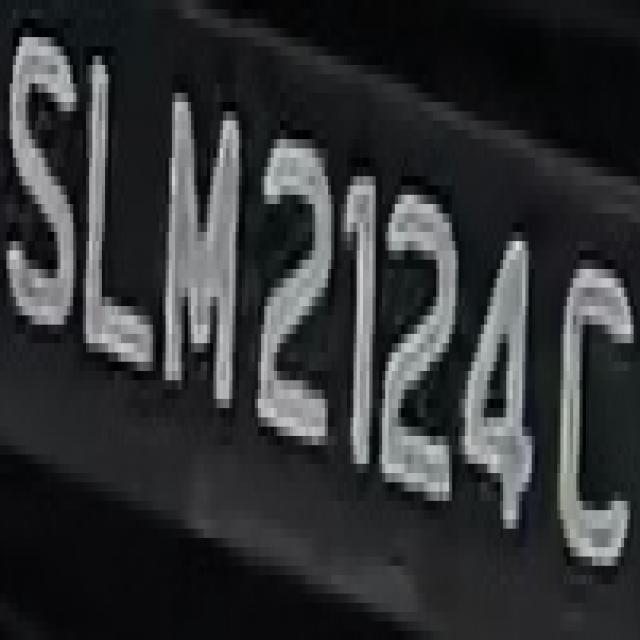1: (338, 93, 382, 510)
2: (245, 74, 331, 492), (379, 130, 462, 538)
4: (452, 139, 541, 575)
C: (554, 204, 637, 612)
L: (74, 28, 162, 408)
M: (165, 56, 248, 445)
S: (3, 0, 80, 325)
